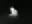person: (9, 7, 19, 19)
